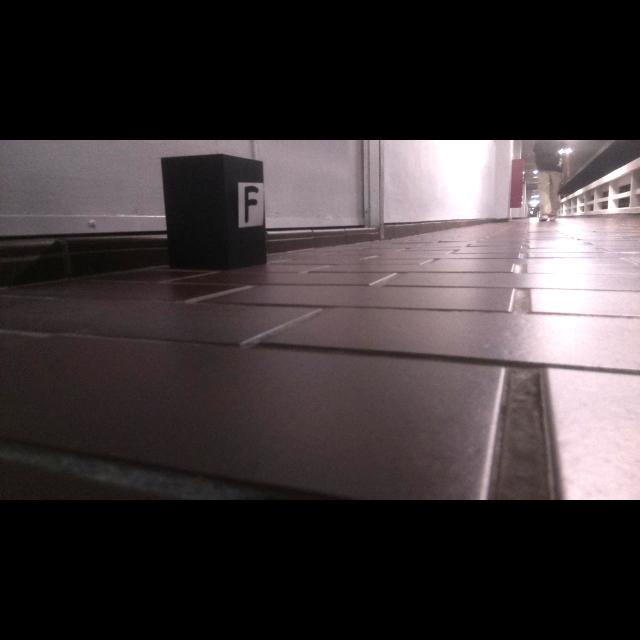F: (244, 186, 259, 223)
